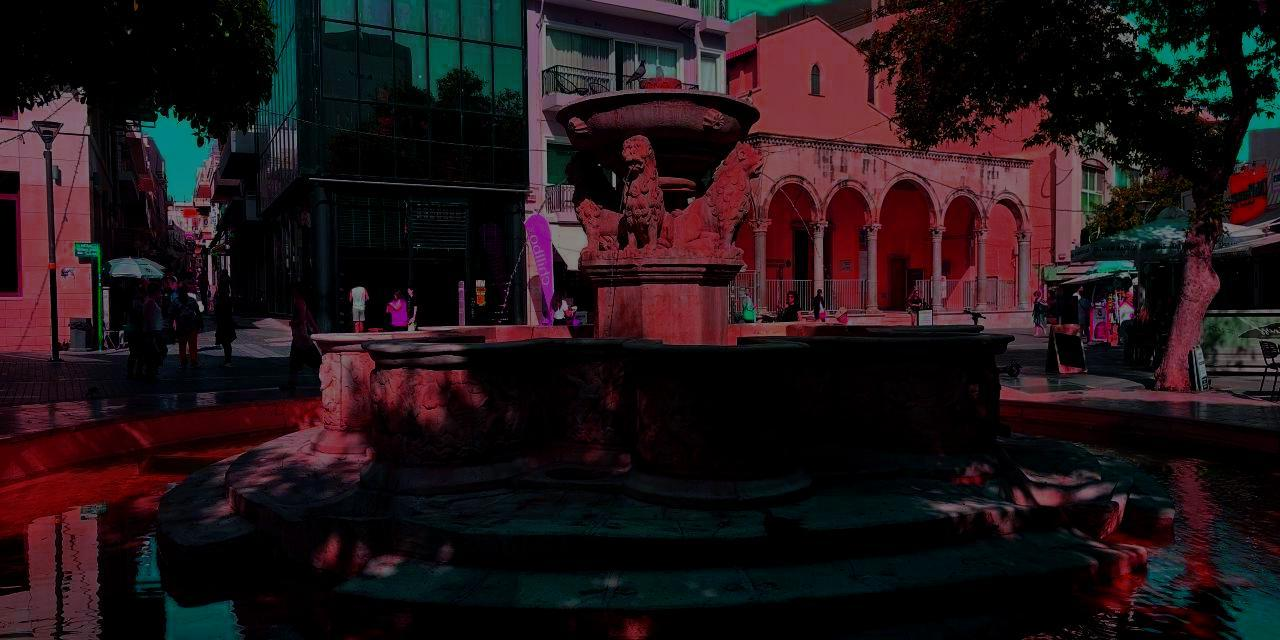Liontaria: (312, 85, 1019, 507)
